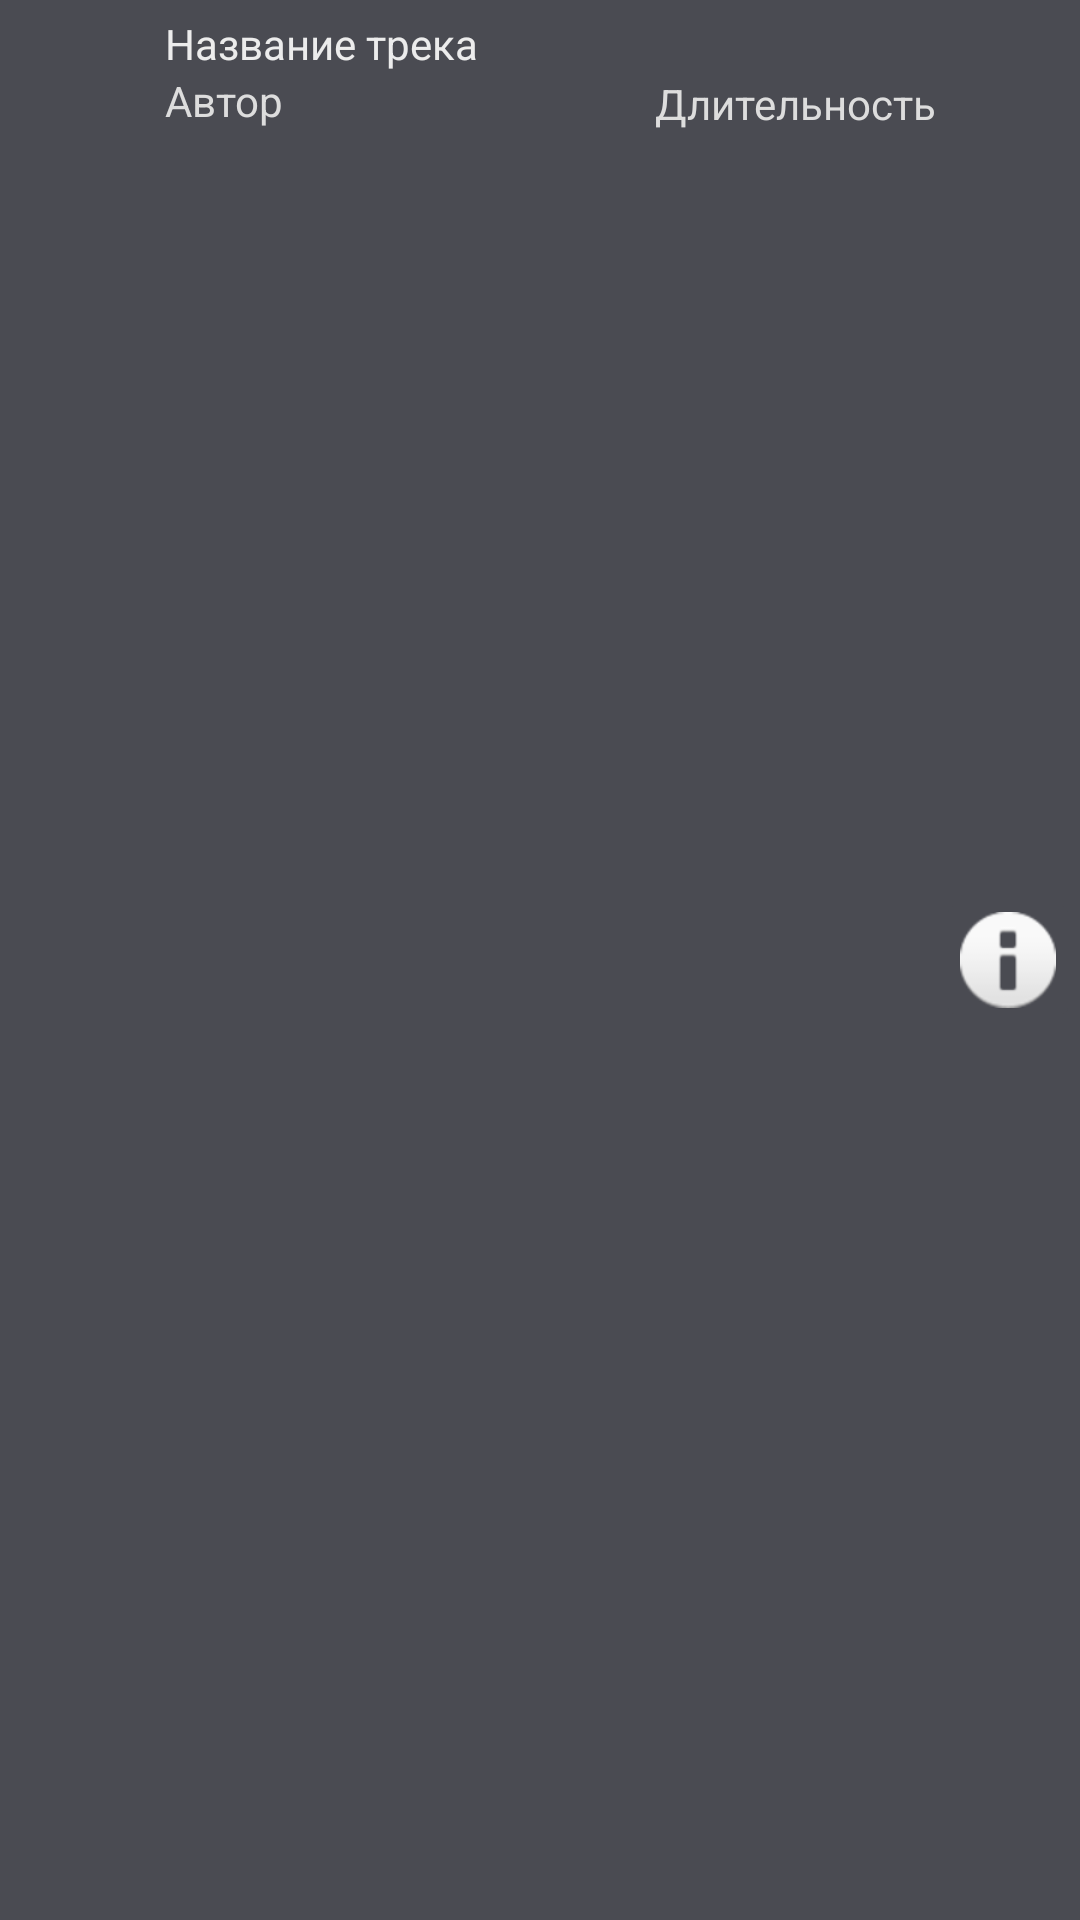

Screen size 1080w x 1920h. Icon name, then its box in pixels as Rect(x1, y1, x2, y2):
Подробности трека: Rect(960, 912, 1056, 1008)
